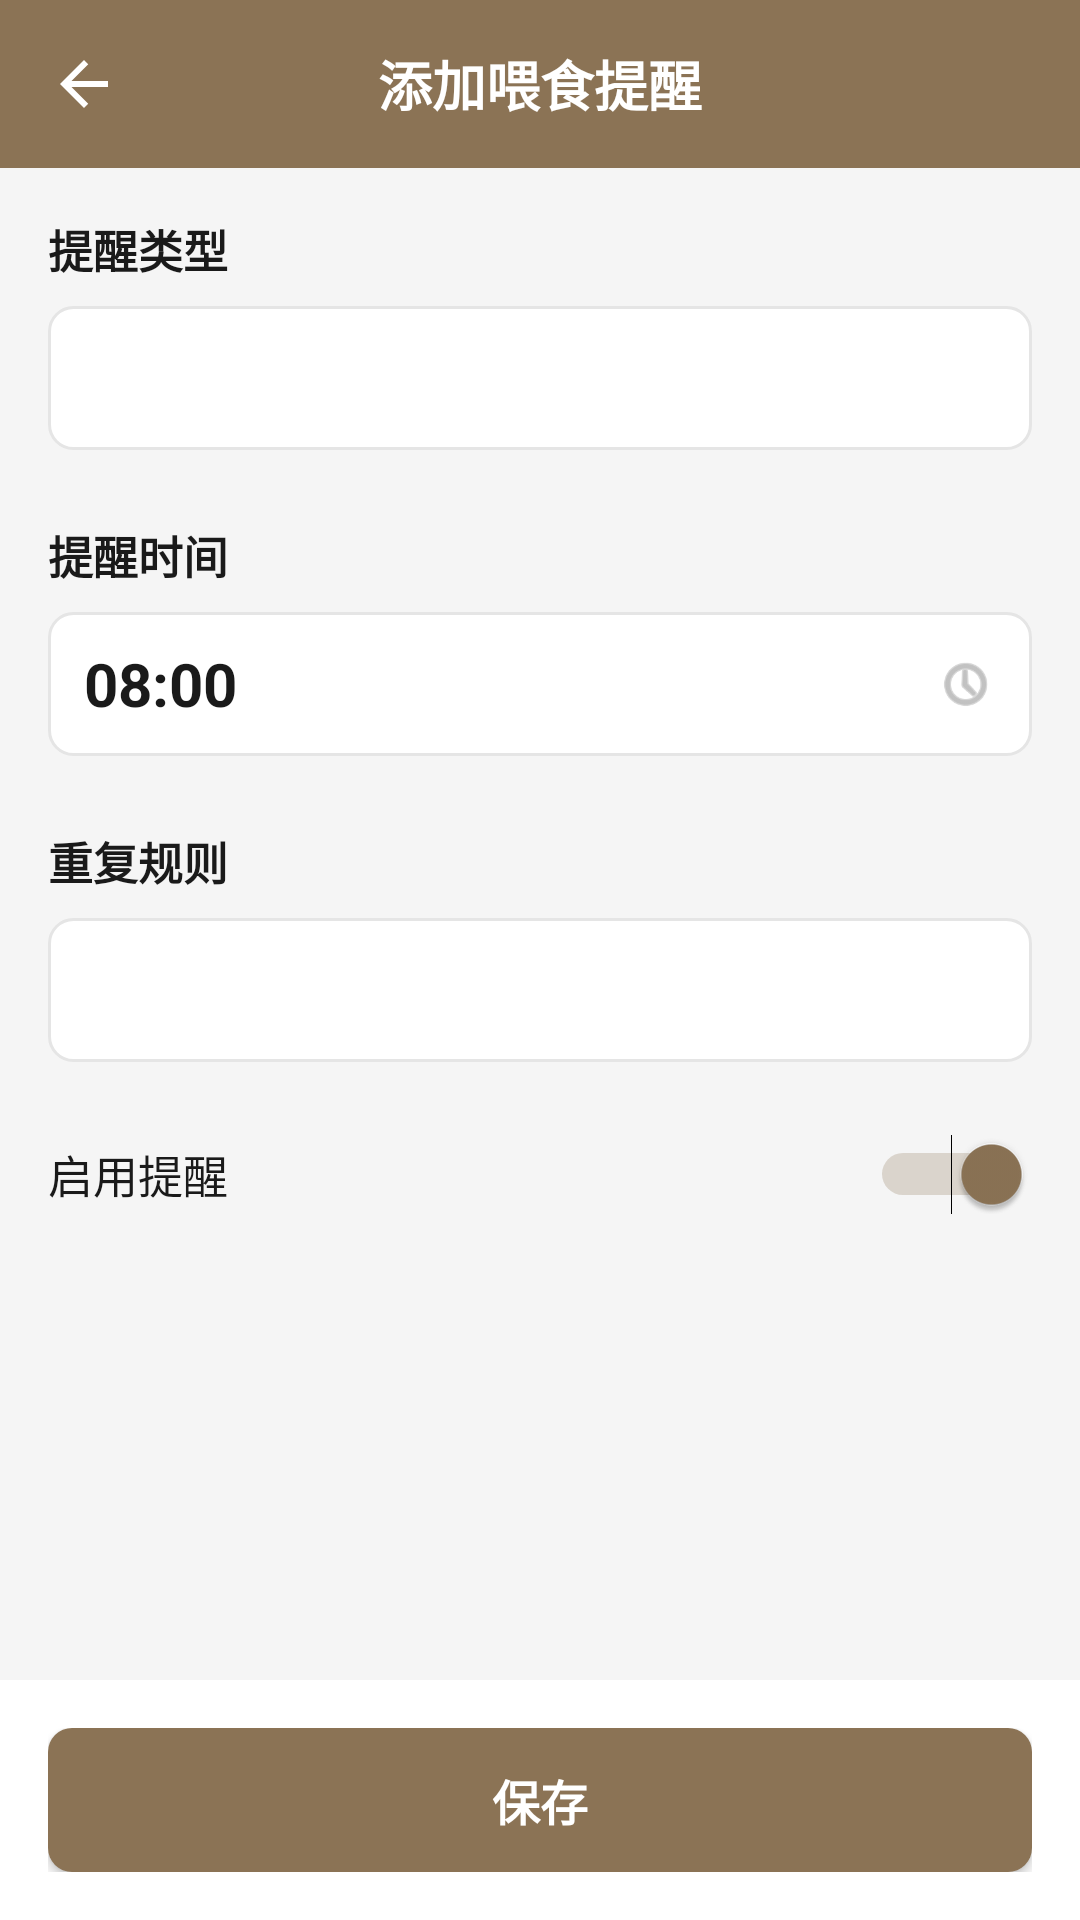

Screen size 1080×1920. Icon name, then its box in pixels as (x1=x1, y1=y1, x2=x2, y2=y2):
arrow back: (x1=60, y1=60, x2=108, y2=108)
recent history: (x1=944, y1=663, x2=987, y2=706)
